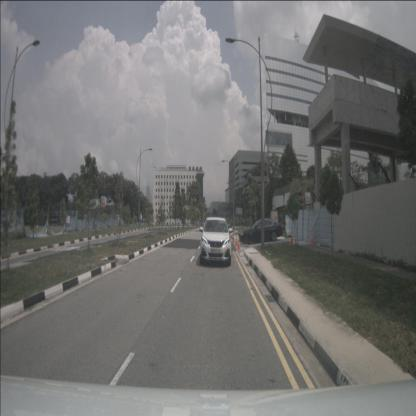cone: (309, 229, 315, 245), (289, 231, 294, 246), (237, 236, 241, 251), (235, 234, 238, 247), (232, 232, 235, 242)
